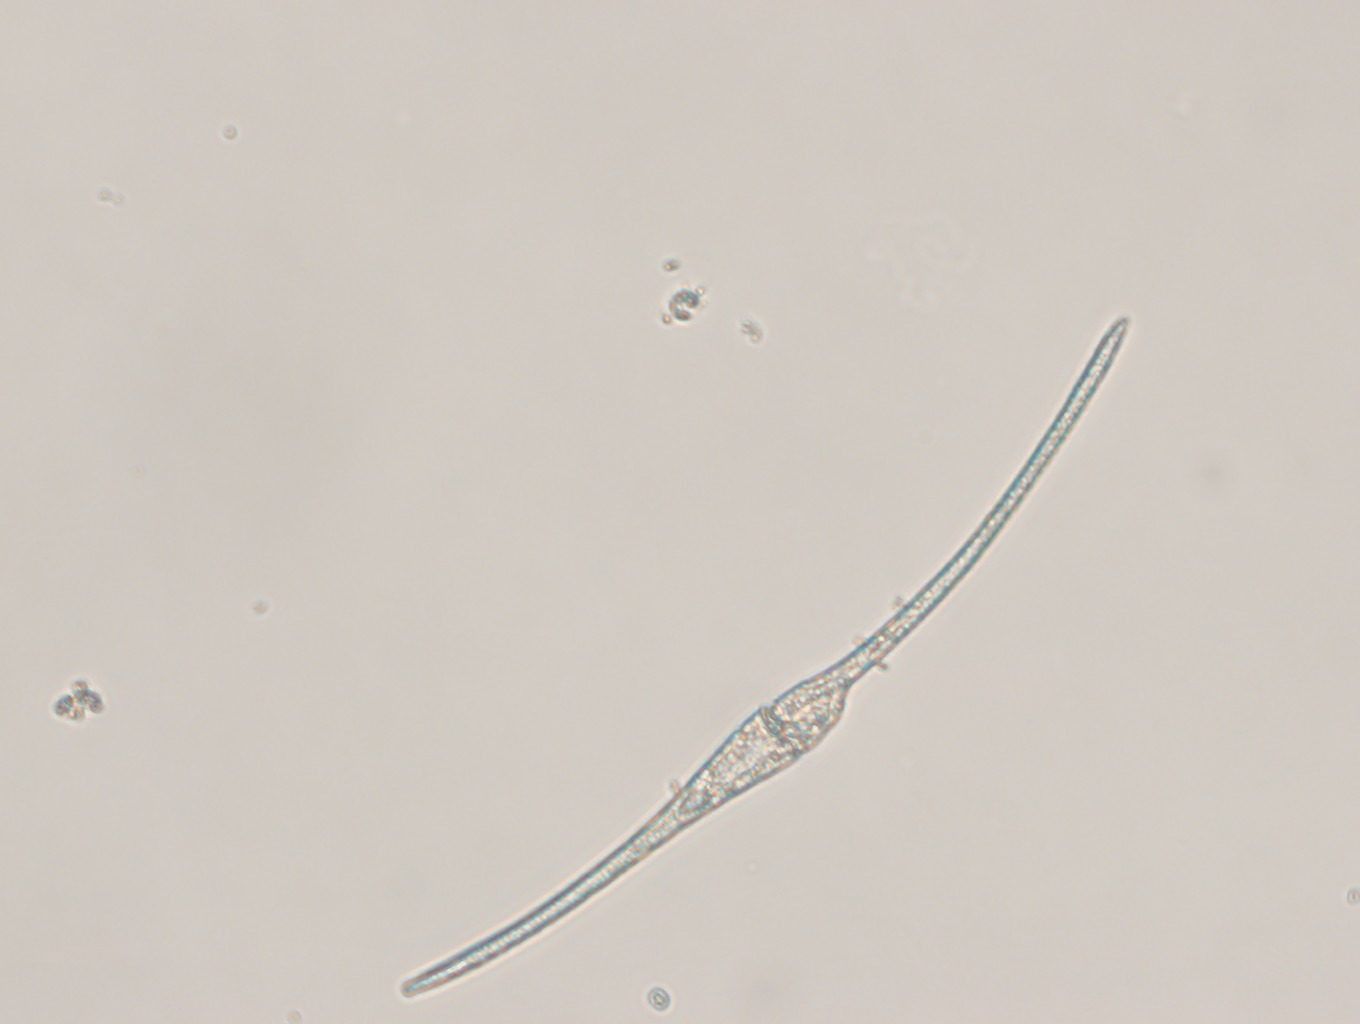ceratium fusus: (393, 307, 1136, 1002)
